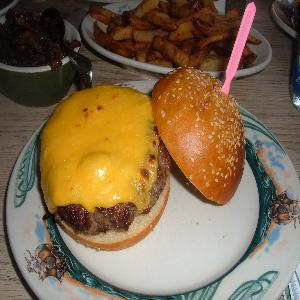cheeseburger_475cal: (40, 76, 173, 255)
